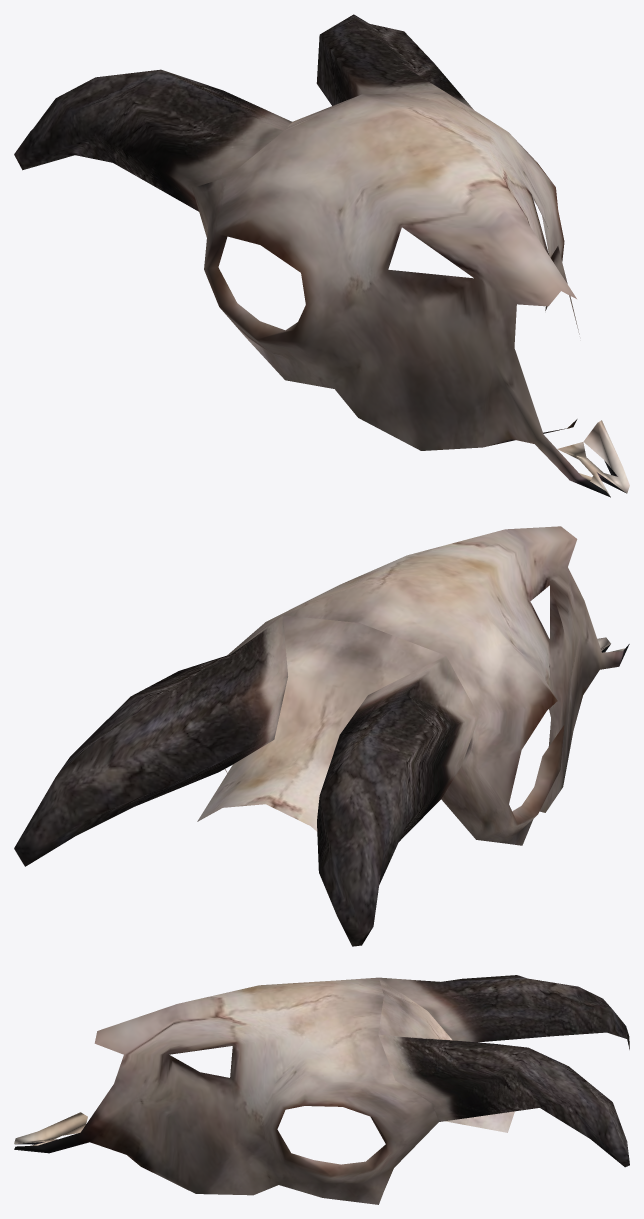
The model's file is skull.glb.
3 views of the same model, one above another, from view 1: azimuth 30°, elevation 25°; view 2: azimuth 150°, elevation 25°; view 3: azimuth 270°, elevation 25° (orthographic). The views are drawn at different scales.
Visible parts, largest first — view 1: aoMapGoatv3.jpg__; view 2: aoMapGoatv3.jpg__; view 3: aoMapGoatv3.jpg__.
Boxes of the visible parts, box(x1,y1,x2,y2) form: aoMapGoatv3.jpg__: box(14, 14, 629, 497); aoMapGoatv3.jpg__: box(14, 526, 629, 946); aoMapGoatv3.jpg__: box(14, 975, 629, 1204).
Bounding box in the file's own units: 1.42 × 0.9862 × 3.02.
1 material, 1 textured.
